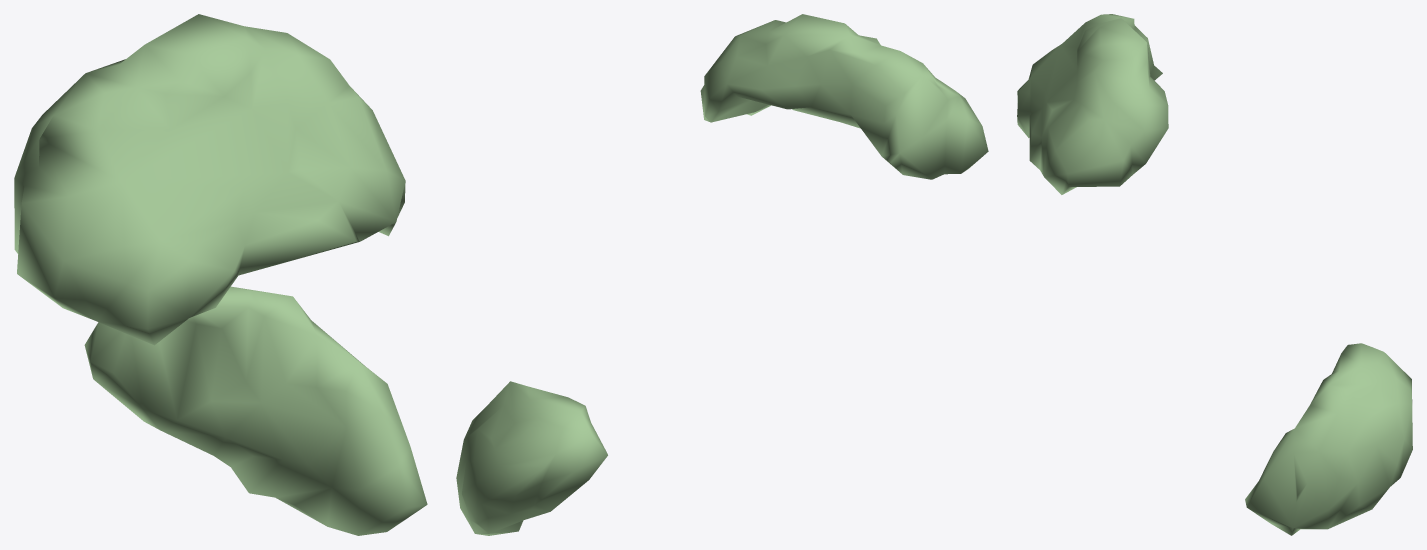
The model's file is fetus.lymphatic.LOD3.glb.
3 renders of one model, left to right at view 1: azimuth 30°, elevation 25°; view 2: azimuth 150°, elevation 25°; view 3: azimuth 270°, elevation 25°, orthographic. The views are drawn at different scales.
Parts seen in each view (by area): view 1: FETUS.LYMPHATIC.THYMUS, FETUS.LYMPHATIC.SPLEEN; view 2: FETUS.LYMPHATIC.THYMUS, FETUS.LYMPHATIC.SPLEEN; view 3: FETUS.LYMPHATIC.THYMUS, FETUS.LYMPHATIC.SPLEEN.
Part boxes in pixels (bbox=[...]): FETUS.LYMPHATIC.THYMUS: bbox=[14, 14, 405, 345]; FETUS.LYMPHATIC.SPLEEN: bbox=[84, 286, 427, 535]; FETUS.LYMPHATIC.THYMUS: bbox=[700, 14, 988, 179]; FETUS.LYMPHATIC.SPLEEN: bbox=[456, 381, 607, 535]; FETUS.LYMPHATIC.THYMUS: bbox=[1017, 14, 1168, 194]; FETUS.LYMPHATIC.SPLEEN: bbox=[1245, 343, 1412, 535].
Bounding box in the file's own units: 0.0432 × 0.0512 × 0.0452.
